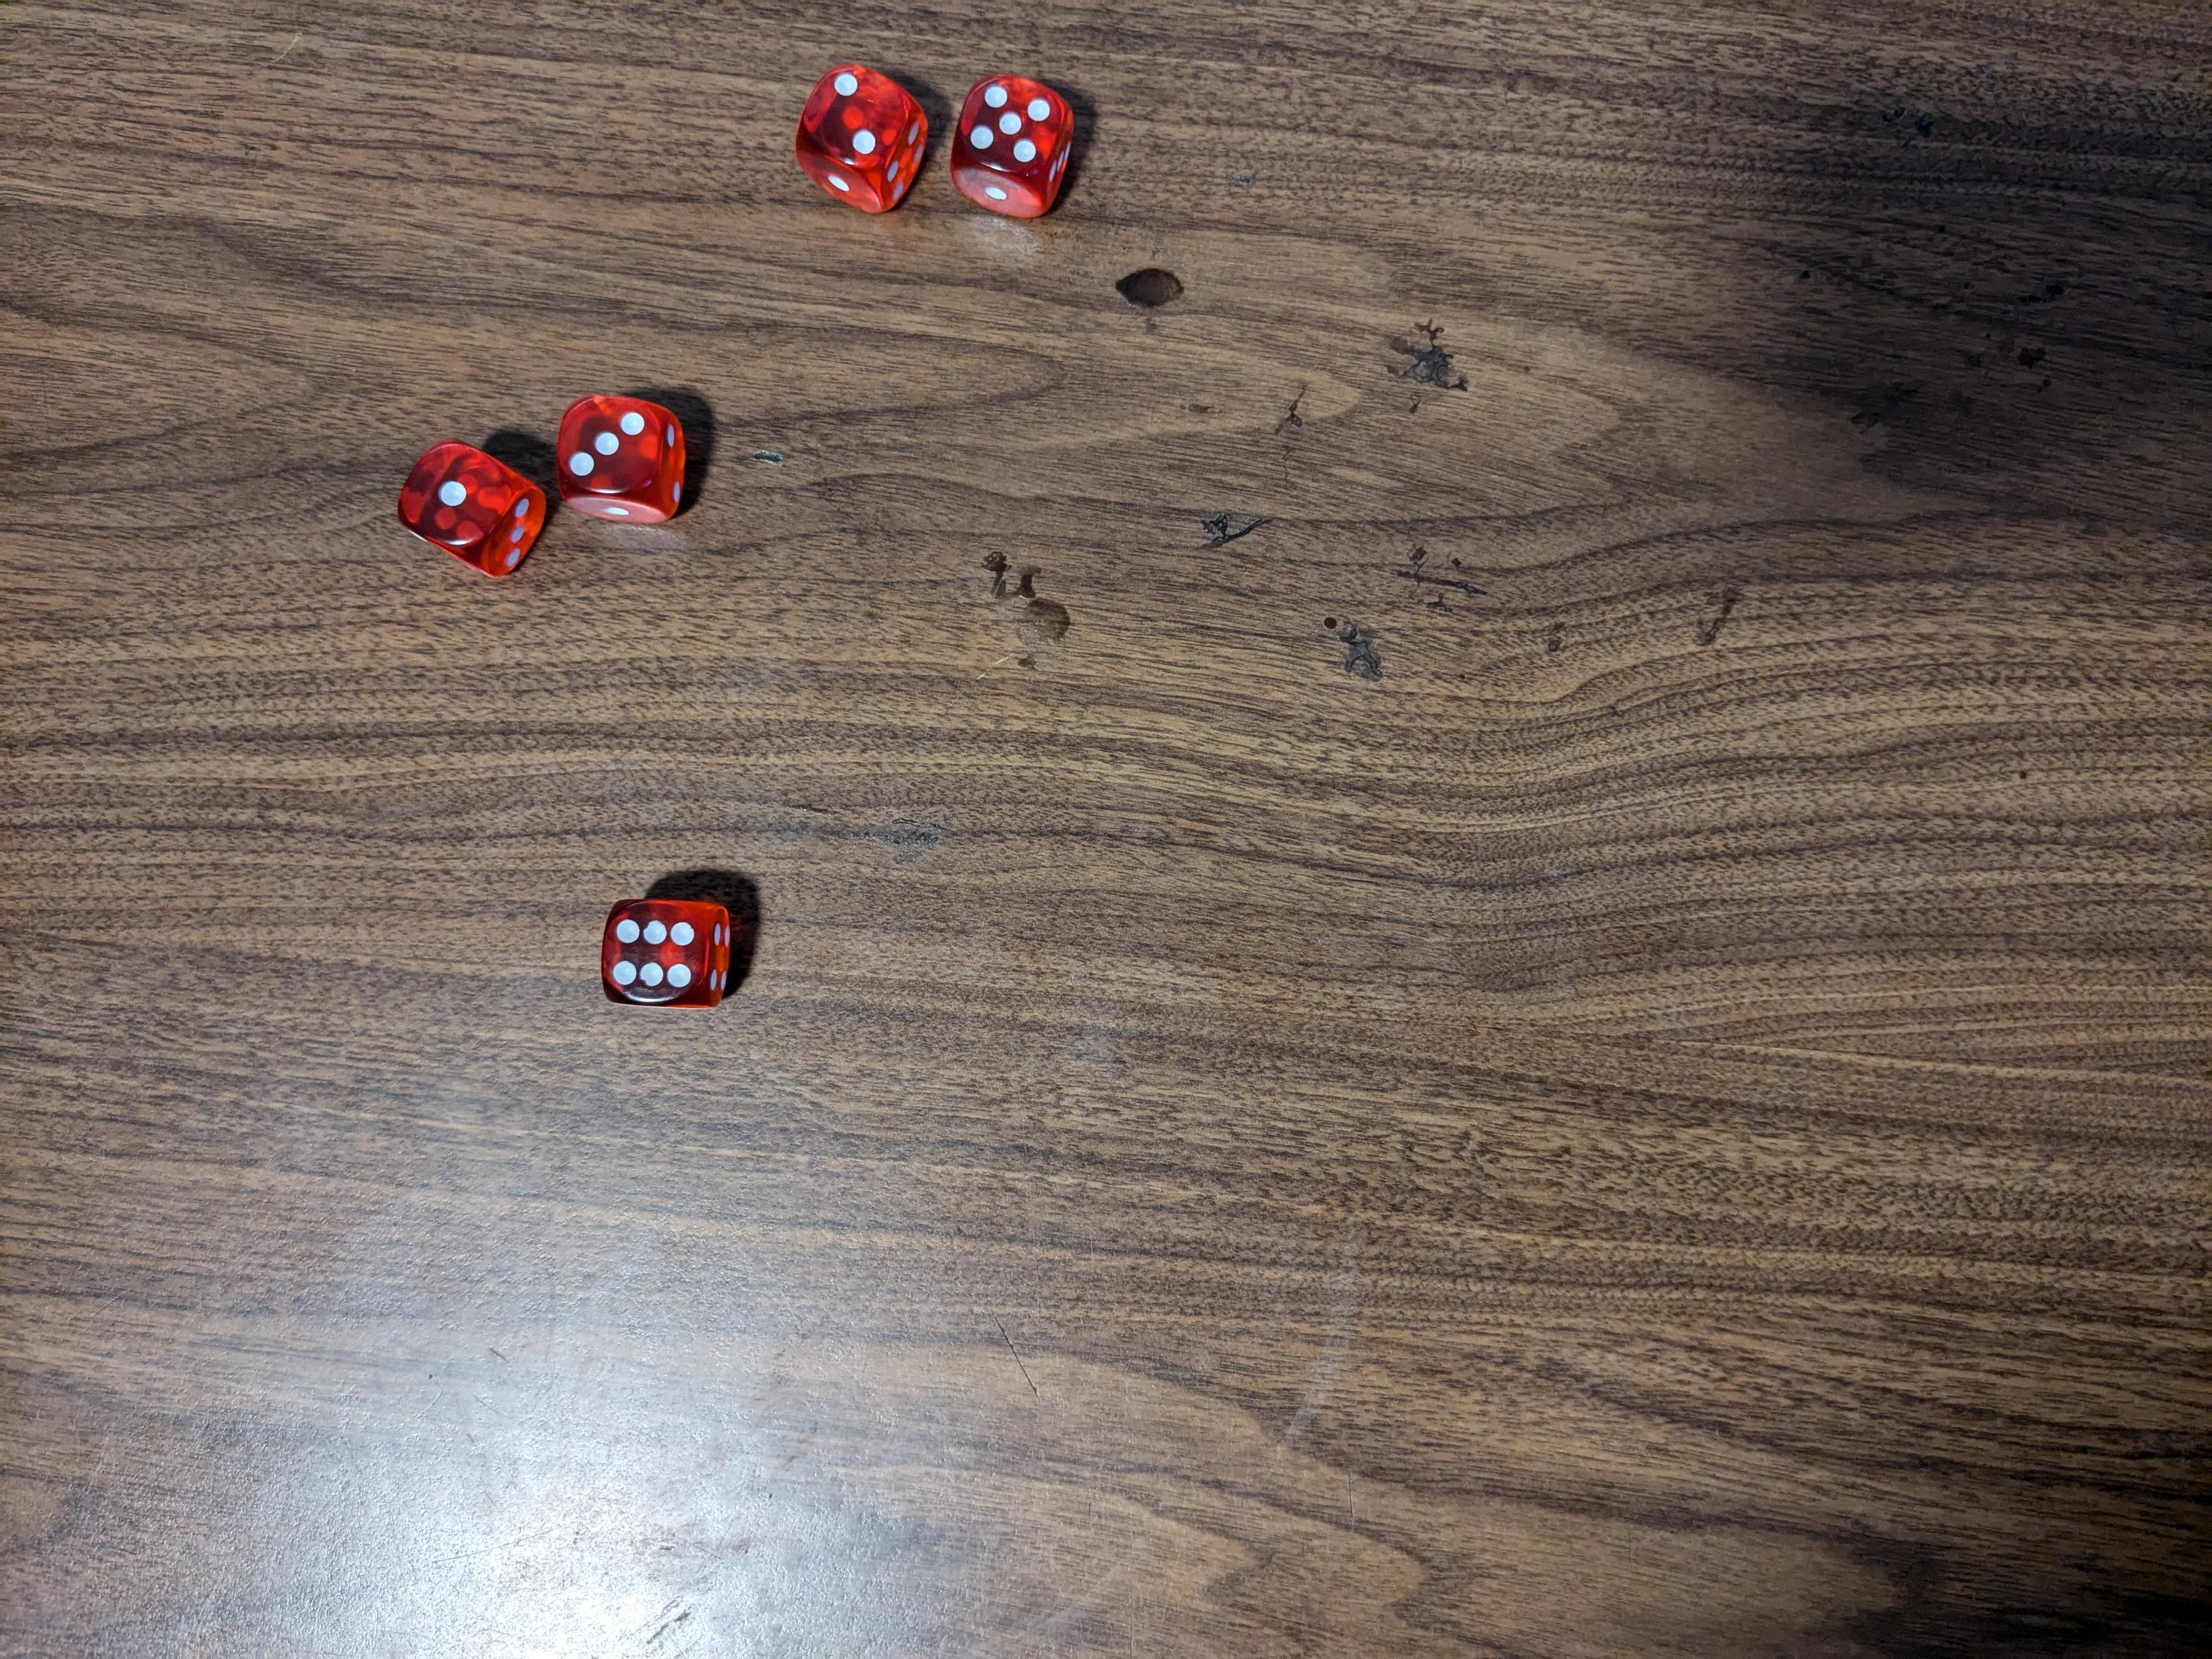five: (949, 70, 1076, 228)
one: (395, 434, 552, 579)
six: (603, 896, 738, 1011)
three: (549, 397, 688, 530)
two: (798, 59, 932, 221)
